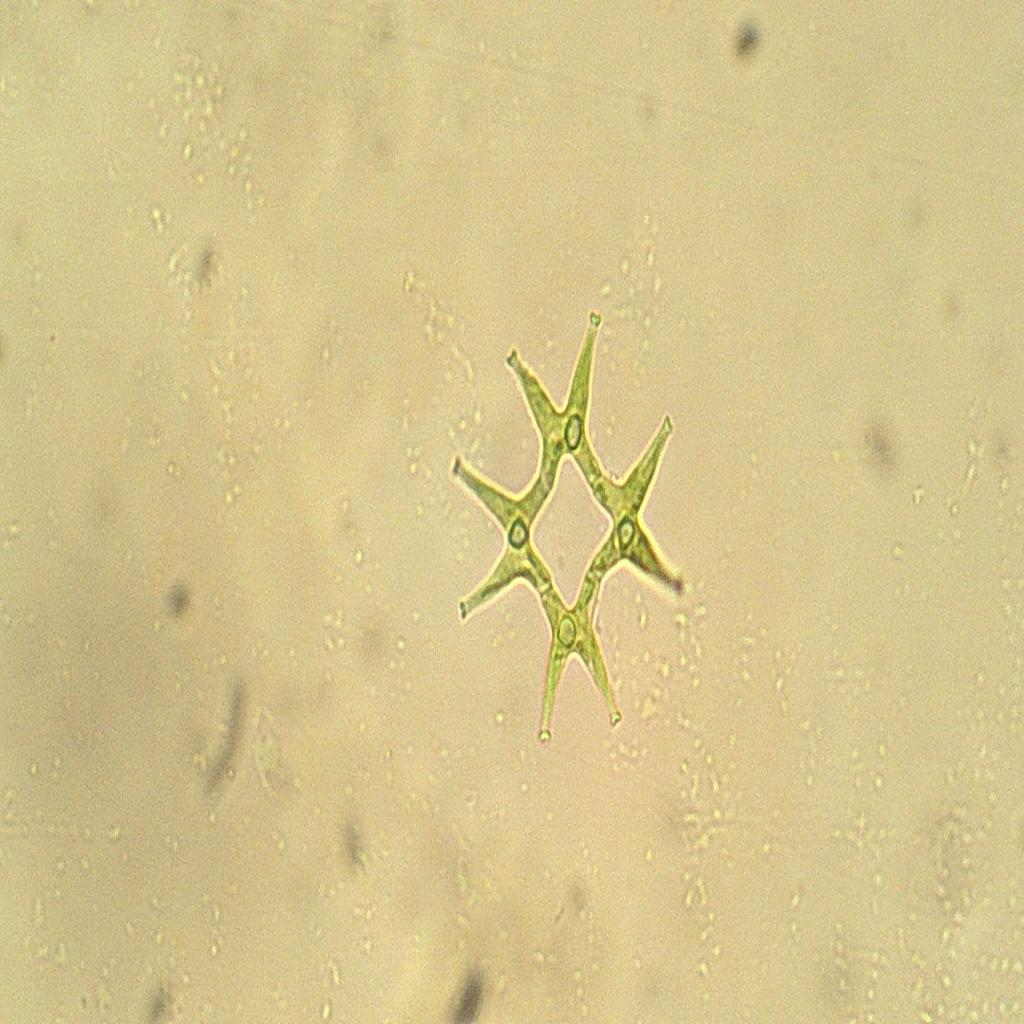Pediastrum_75O: (438, 294, 704, 767)
